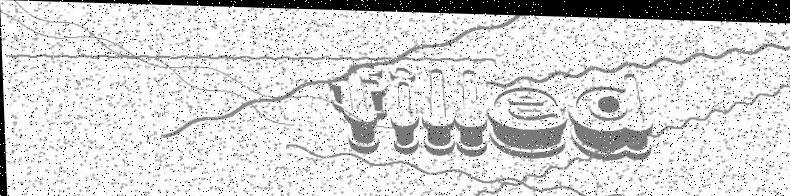d: (567, 67, 653, 158)
e: (486, 81, 568, 157)
f: (327, 60, 389, 154)
i: (388, 63, 419, 153)
l: (419, 65, 455, 154), (453, 65, 488, 155)
